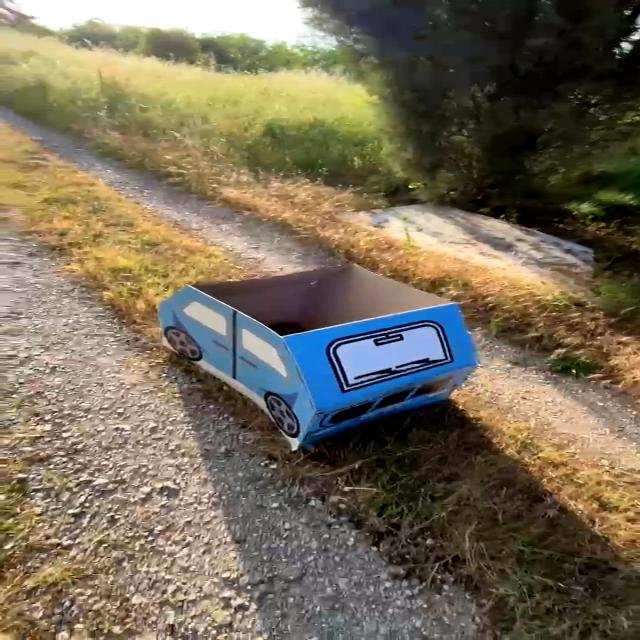blue_car: (91, 241, 519, 476)
